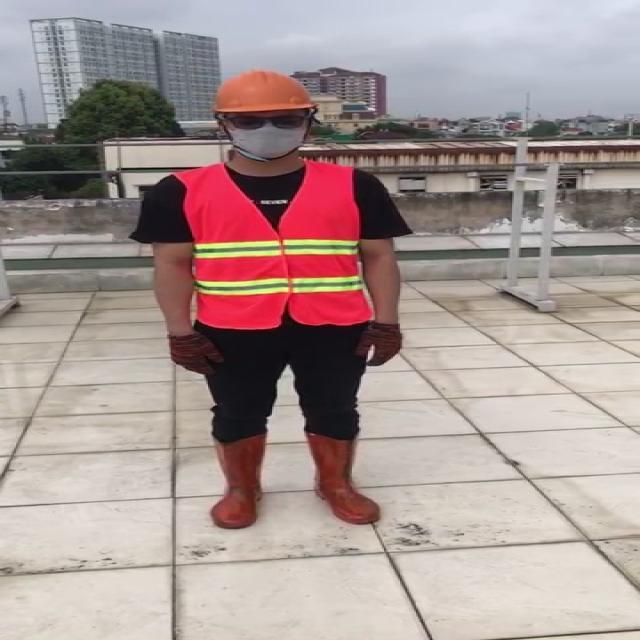boots: (302, 432, 382, 524), (204, 436, 265, 529)
